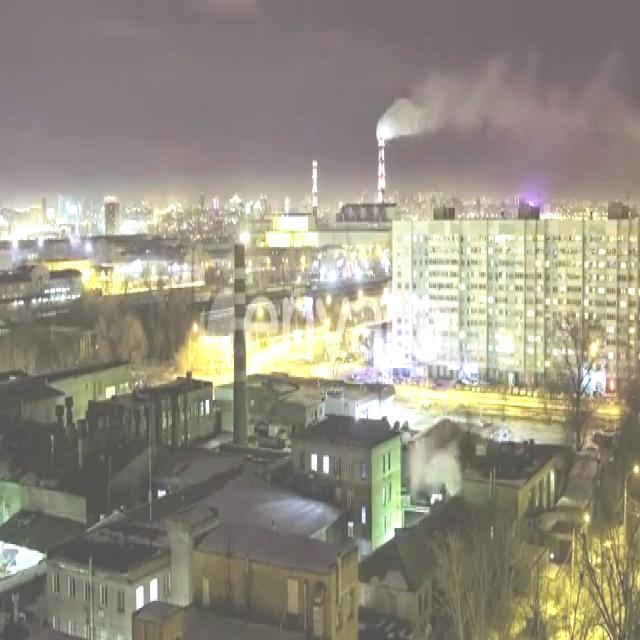smoke: (376, 52, 639, 140)
